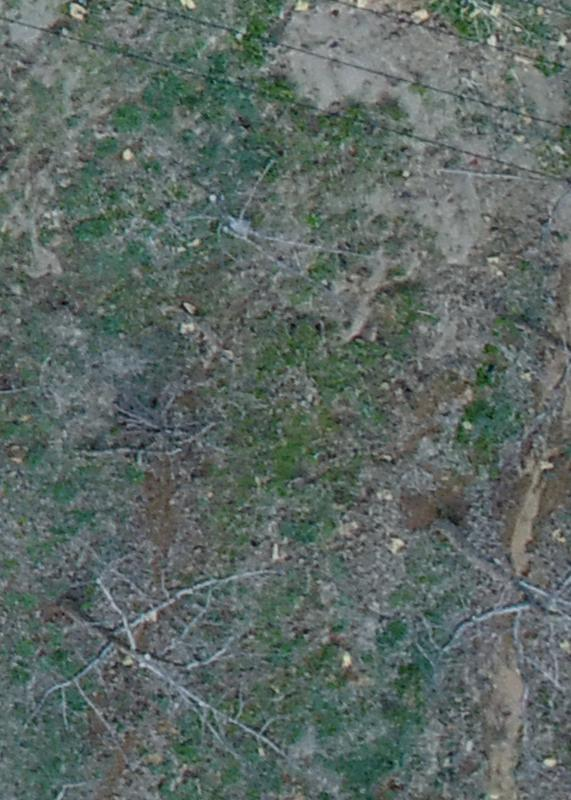apple: (43, 571, 306, 769), (166, 148, 392, 297), (60, 375, 244, 496)
